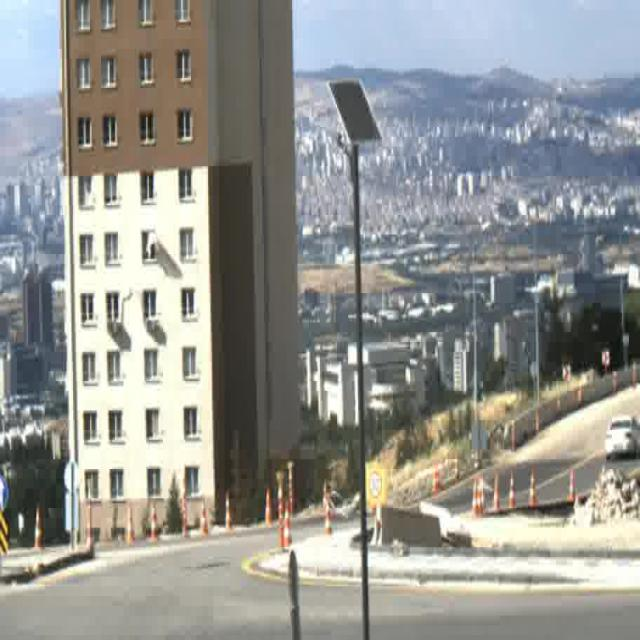Car: (605, 419, 640, 460)
